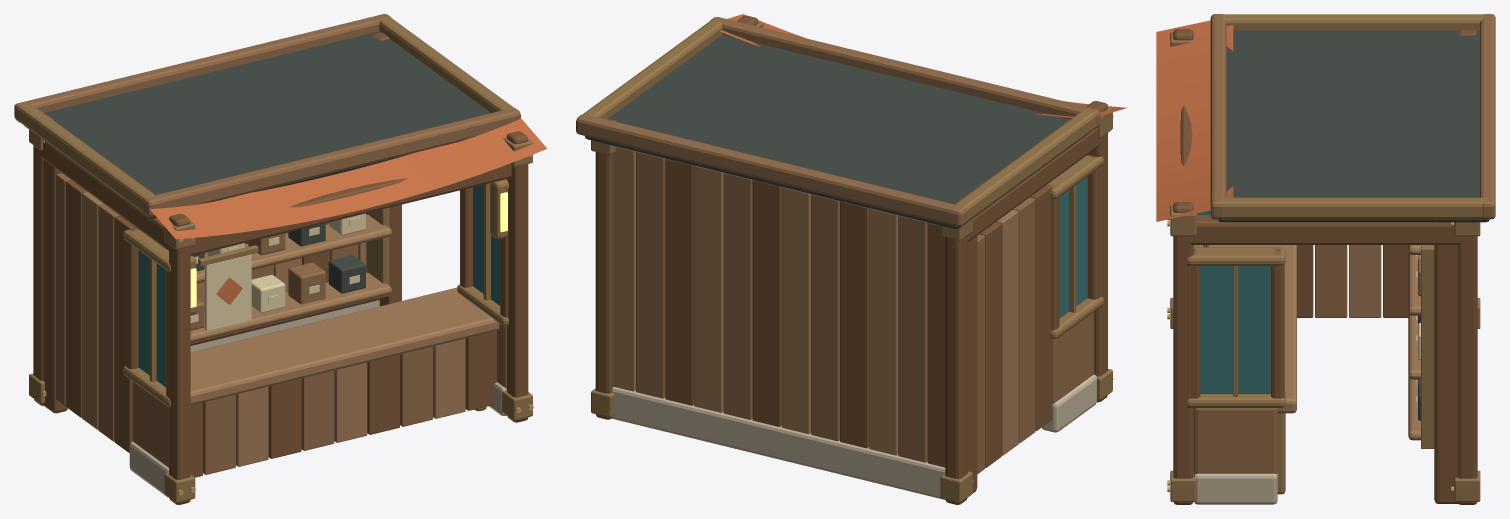
File: trader_frontage.glb
3 views of the same model, side by side, from view 1: azimuth 30°, elevation 25°; view 2: azimuth 150°, elevation 25°; view 3: azimuth 270°, elevation 25° (orthographic). The views are drawn at different scales.
Visible parts, largest first — view 1: trader_frontage_study; view 2: trader_frontage_study; view 3: trader_frontage_study.
Part boxes in pixels (left/top/right/bottom): trader_frontage_study: left=14, top=14, right=547, bottom=504; trader_frontage_study: left=576, top=14, right=1127, bottom=504; trader_frontage_study: left=1156, top=14, right=1495, bottom=504.
Size of the model in its own units: 3.98 by 3 by 2.99.
